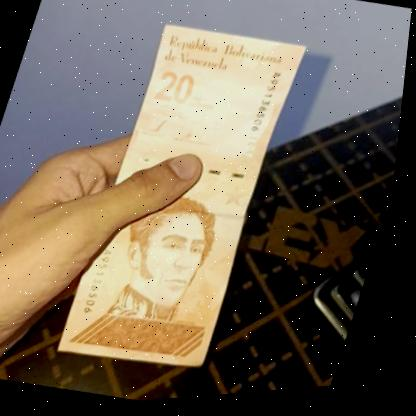twenty-front-vef: (58, 16, 313, 387)
